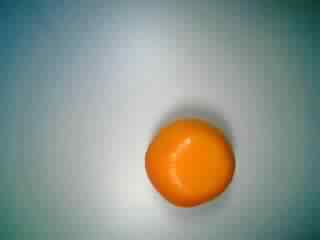orange: (142, 115, 243, 212)
